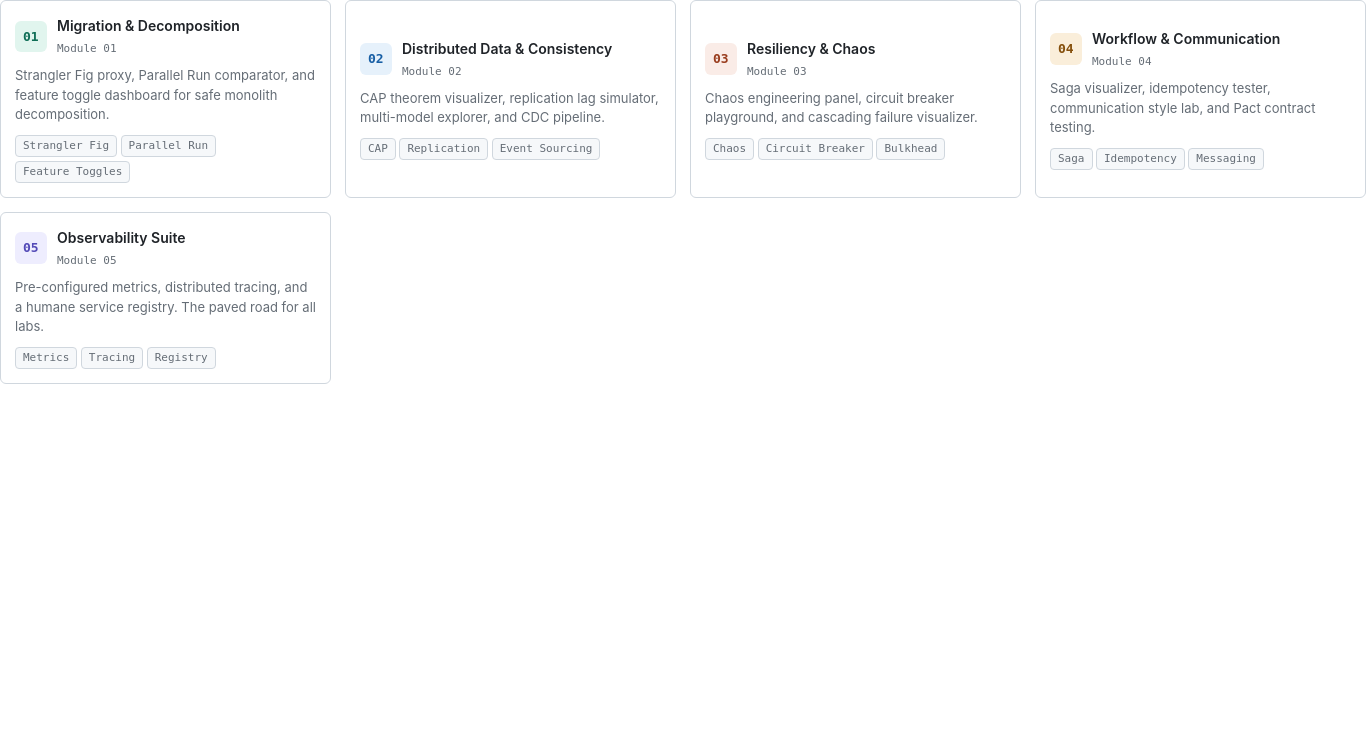
it: labs prototype flow › renders the testing workspace and validates required request fields
This screenshot has width=1366, height=743.
What coordinates should you click on to do the following:
click the button "Migration & Decomposition"
I would click on:
 (166, 99)
Its box is [0,0,331,198].
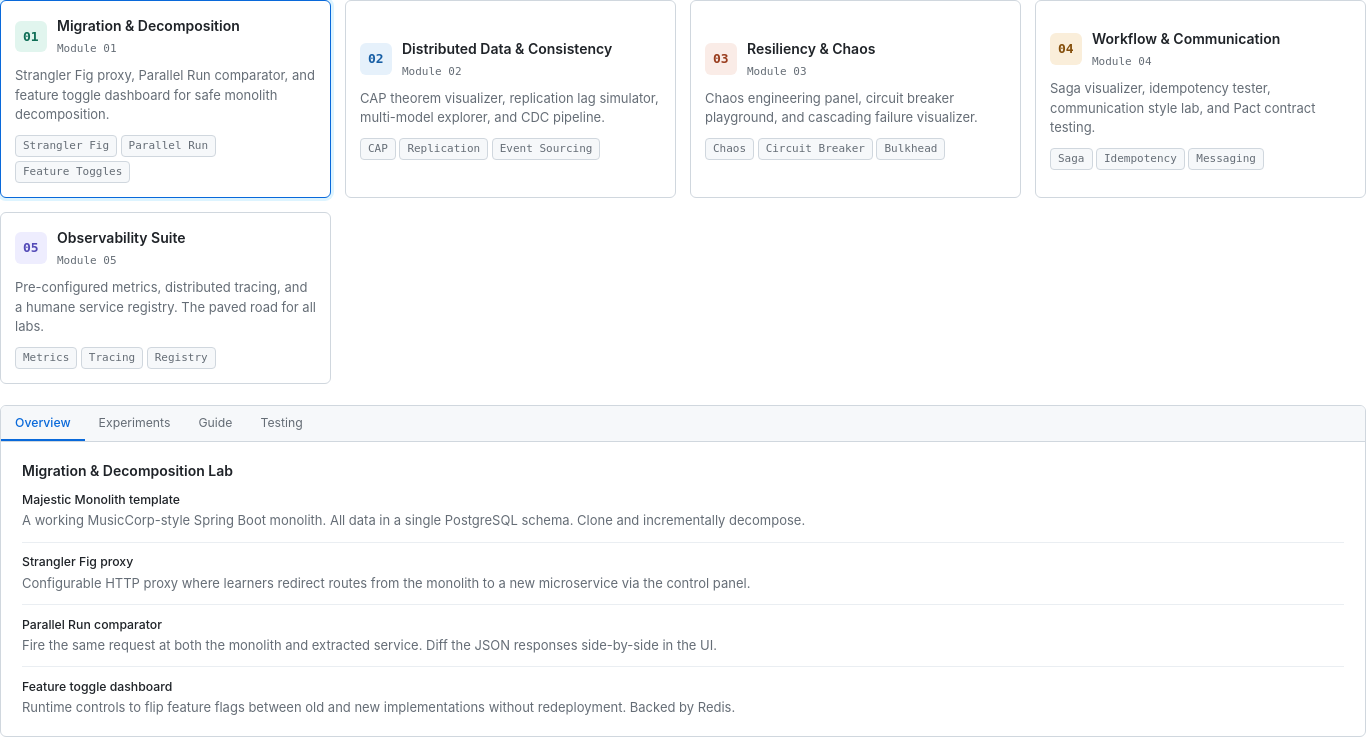
What coordinates should you click on to do the following:
click the tab "Testing"
I would click on:
 (282, 424)
Its box is [246,406,317,441].
(page scrolled)
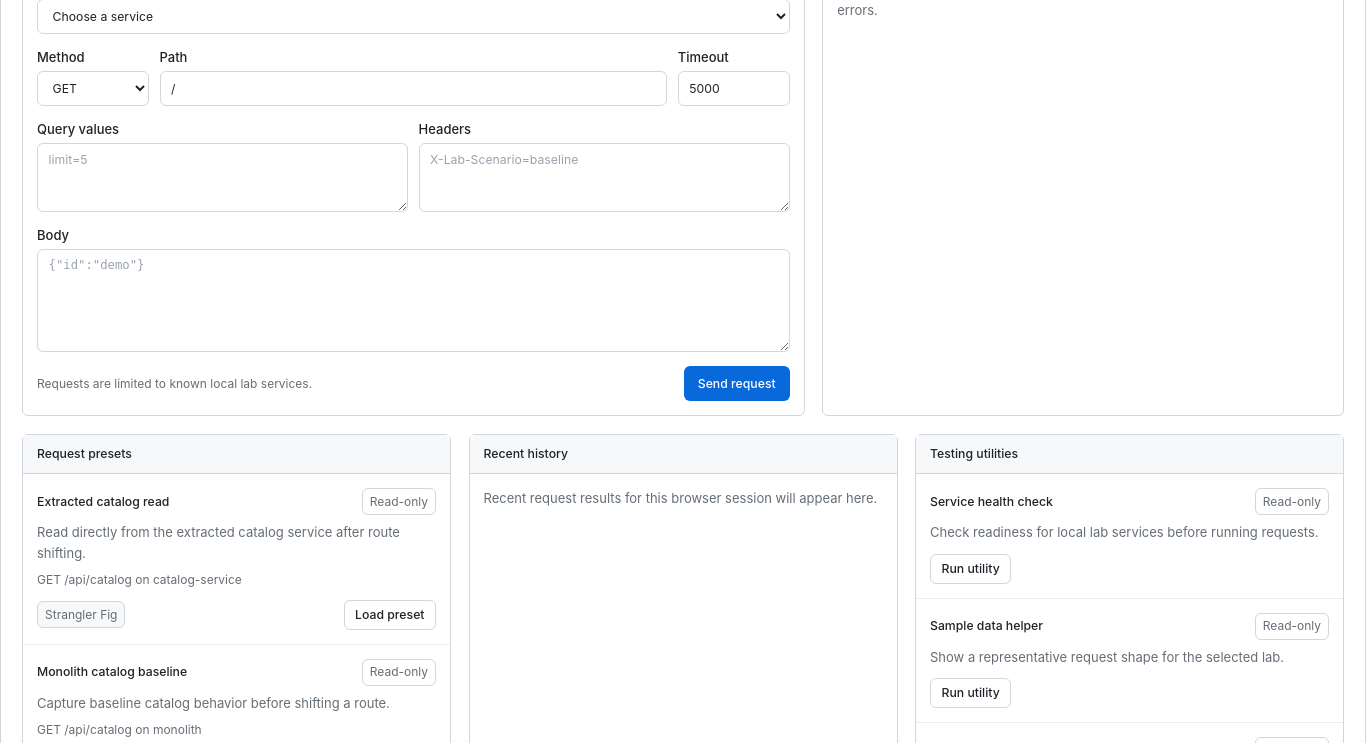
What coordinates should you click on to do the following:
click the button "Send request"
I would click on:
 (737, 384)
Its box is [684,366,790,401].
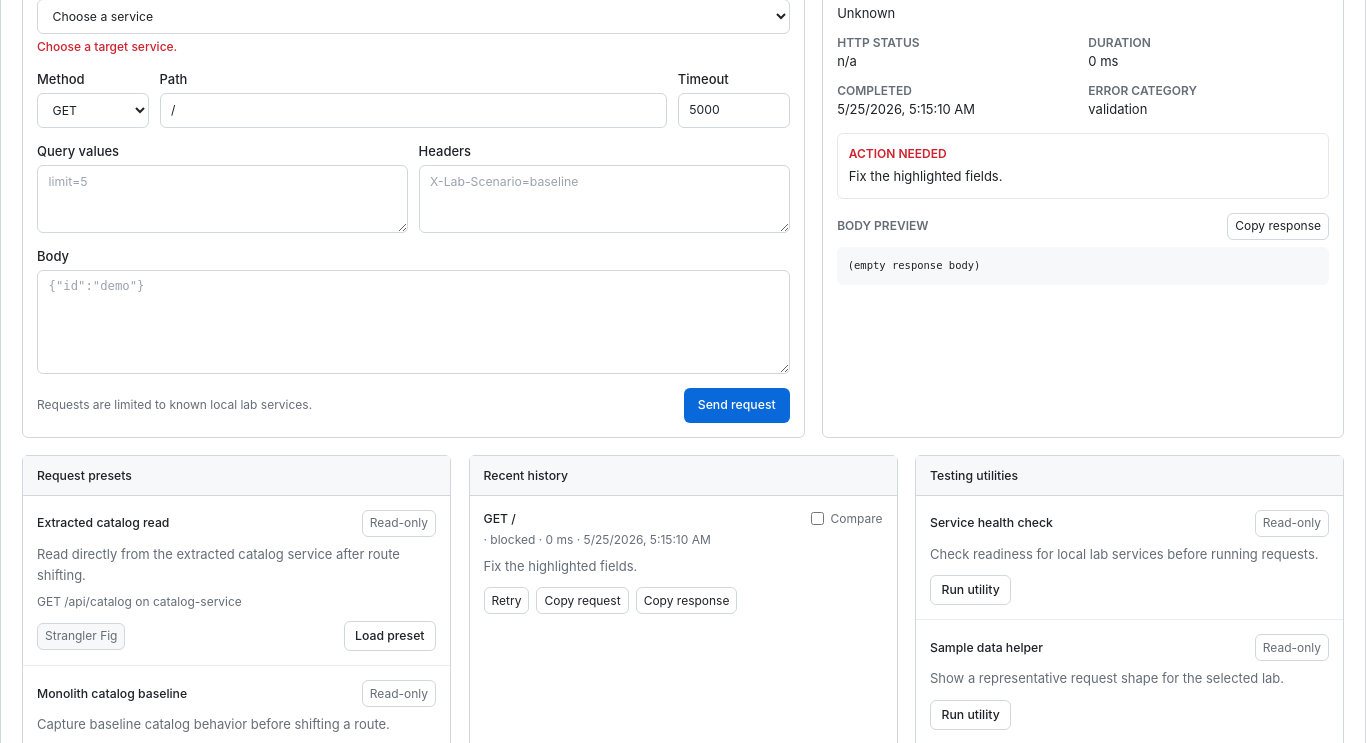
Now the text "Choose a target service." is shown, box [37,38,177,54]
Now the text "Fix the highlighted fields." below "Action needed" is shown, box [849,168,1002,184]
